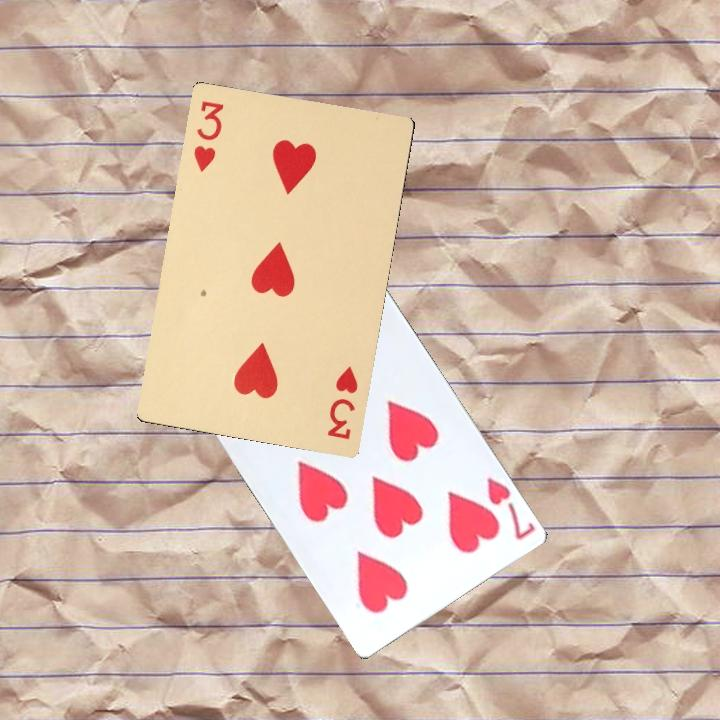3h: (189, 97, 227, 175), (323, 362, 360, 442)
7h: (482, 473, 538, 543)
